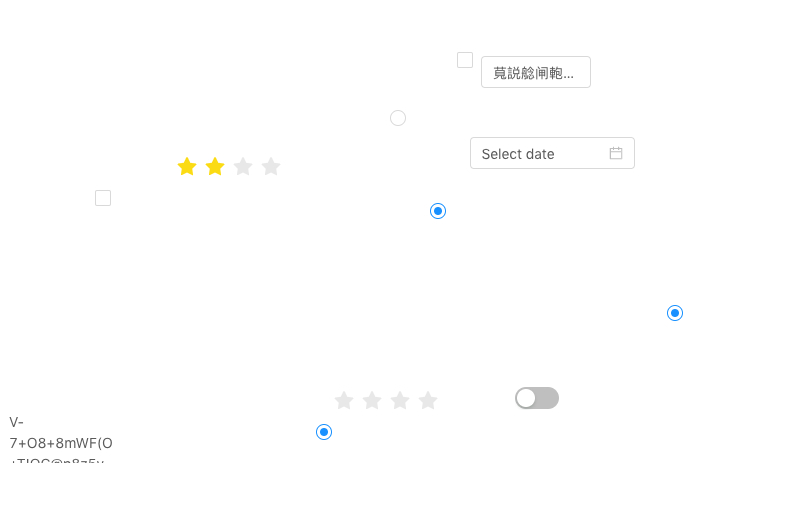Checkbox: (95, 187, 111, 208), (457, 49, 473, 70)
DatePicker: (470, 137, 635, 169)
Input: (481, 56, 591, 88)
Radio: (430, 200, 446, 220), (667, 302, 683, 322), (316, 421, 332, 441), (390, 107, 406, 127)
Rate: (177, 150, 297, 182), (334, 384, 454, 416)
Switch: (515, 386, 559, 410)
Text: (9, 411, 113, 463)
